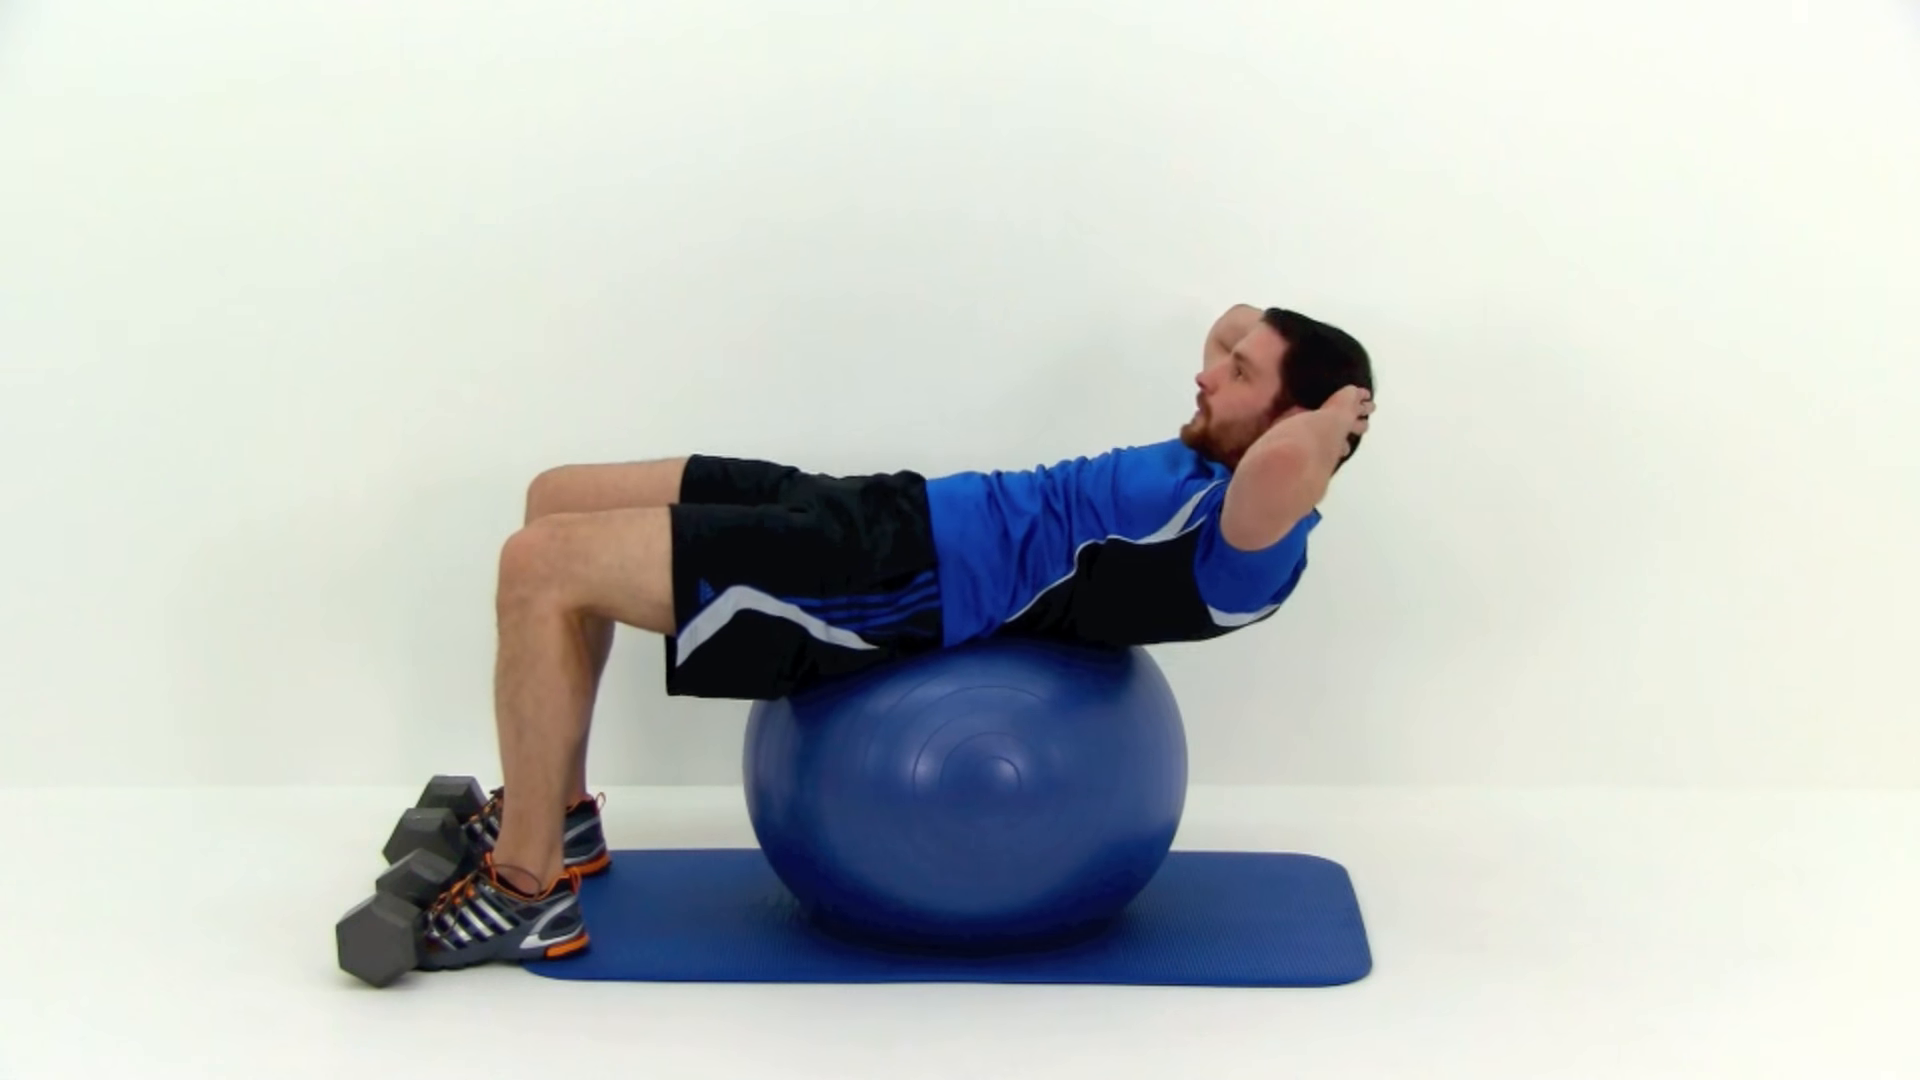yogaball: (731, 603, 1200, 960)
